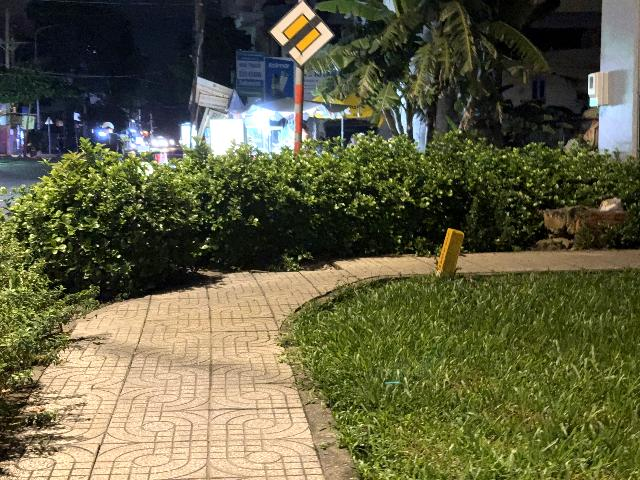het-duong-uu-tien: (268, 0, 336, 69)
